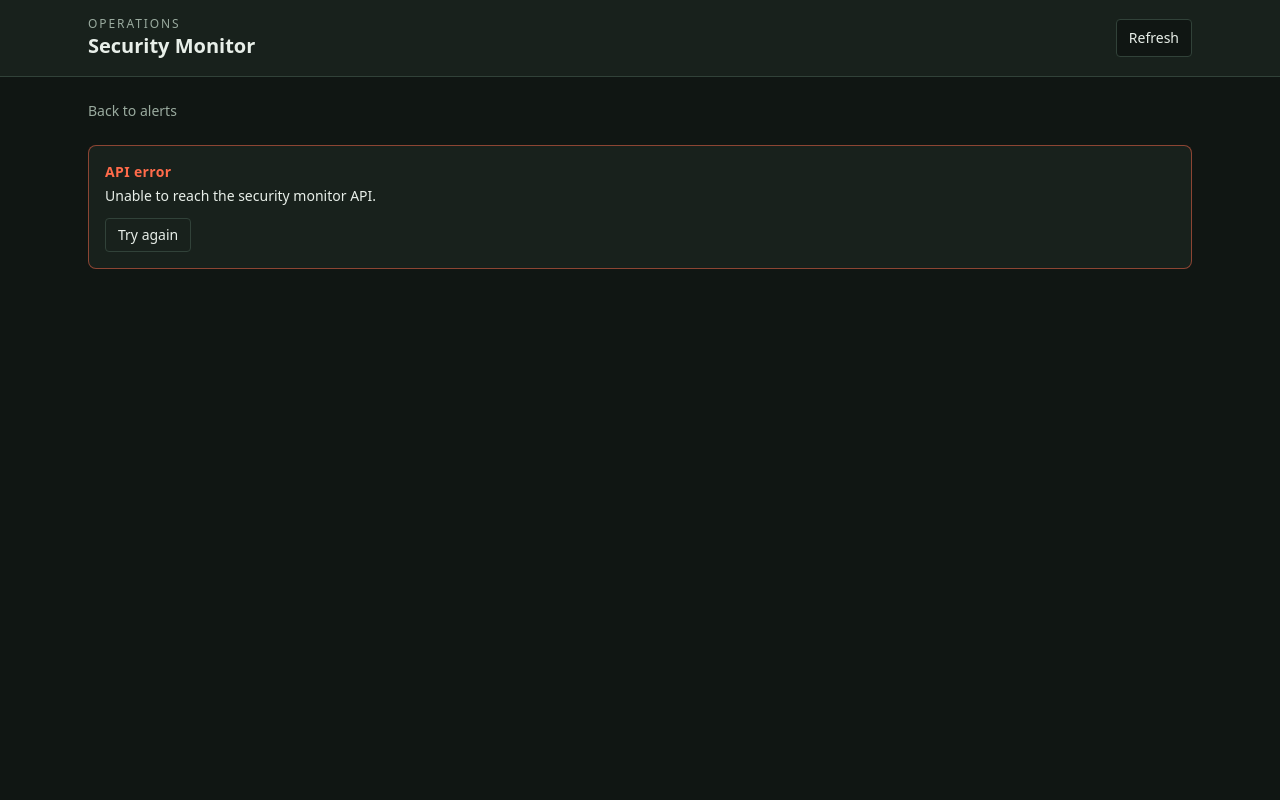
Scenario: AlertDetailsPage › shows a network failure and can retry
This screenshot has width=1280, height=800.
expect the message shows "Unable to reach the security monitor API.": met, box x1=105 y1=186 x2=376 y2=205
Click the button "Try again": (148, 235) x1=105 y1=218 x2=191 y2=252
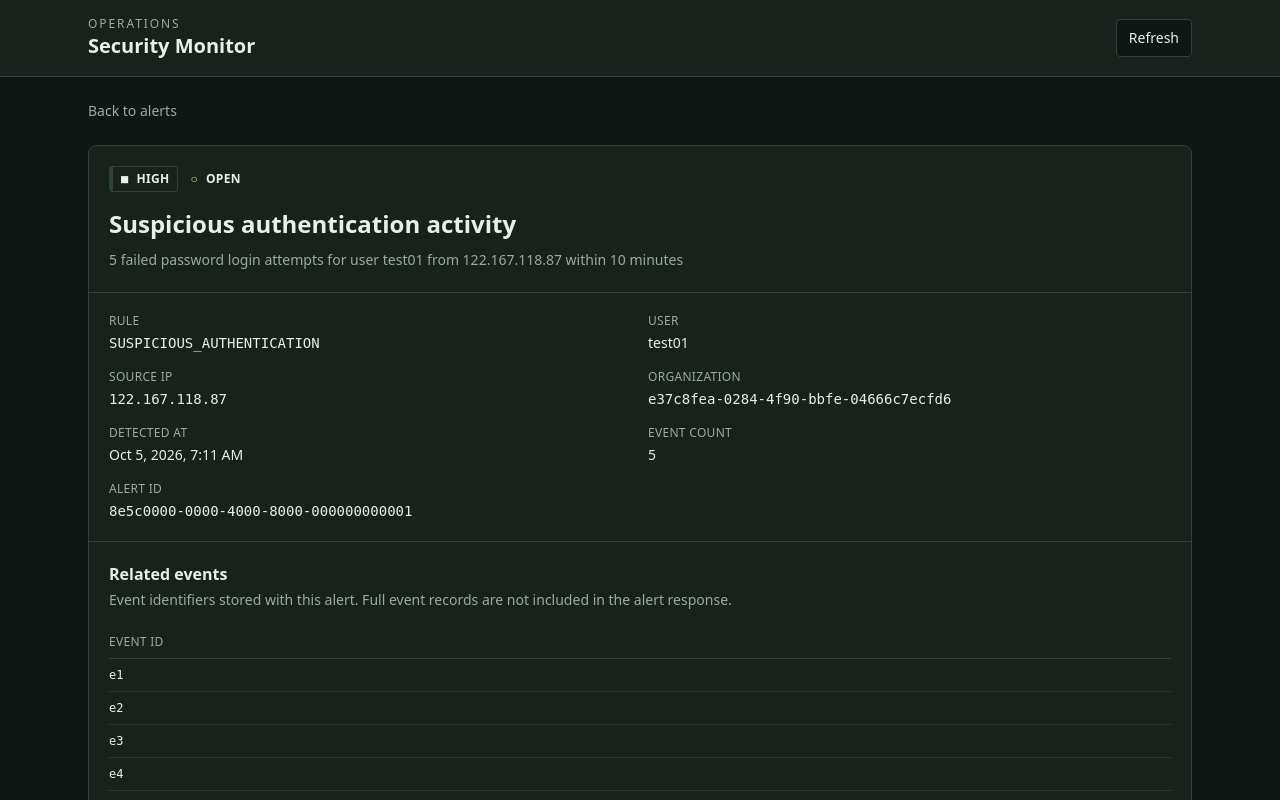
expect the heading "Suspicious authentication activity" is shown: met, box x1=109 y1=207 x2=516 y2=240
